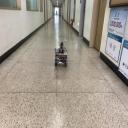cart: (54, 49, 68, 67)
